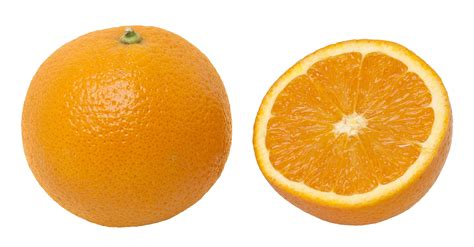orange: (20, 21, 233, 231)
